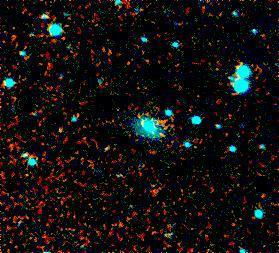star: (47, 117, 77, 147)
